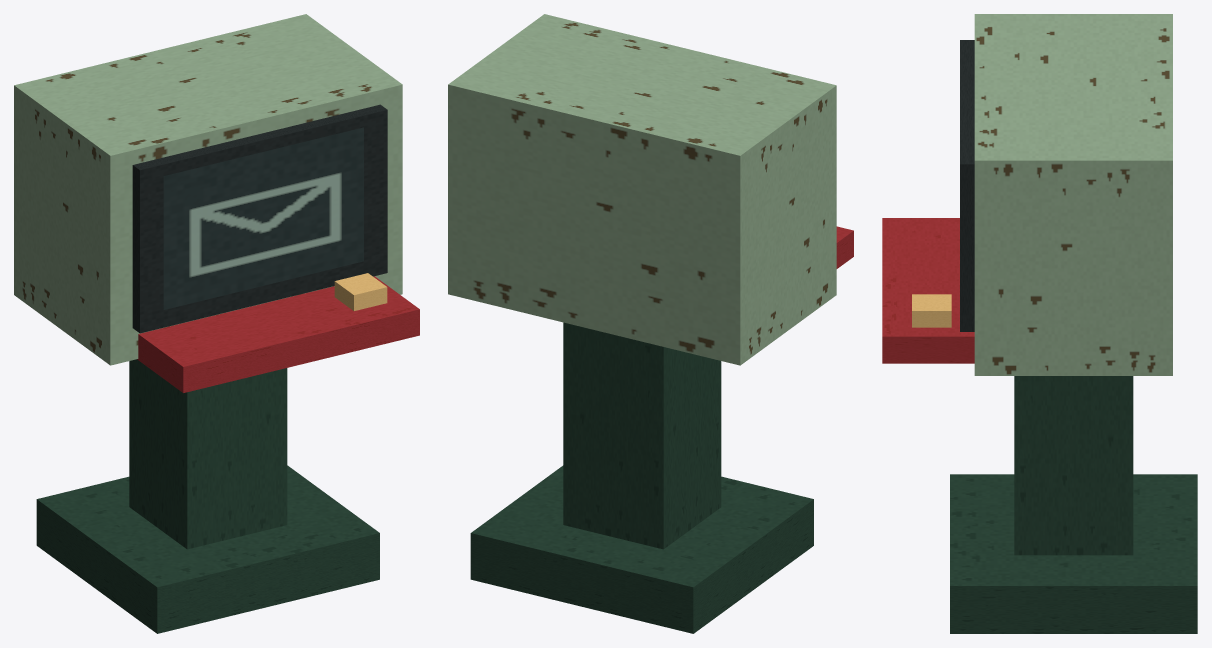
The model's file is PostTerminal.fbx.
3 renders of one model, left to right at view 1: azimuth 30°, elevation 25°; view 2: azimuth 150°, elevation 25°; view 3: azimuth 270°, elevation 25°, orthographic. The views are drawn at different scales.
Visible parts, largest first — view 1: PostTerminal; view 2: PostTerminal; view 3: PostTerminal.
Part boxes in pixels (left/top/right/bottom): PostTerminal: left=14, top=14, right=419, bottom=633; PostTerminal: left=448, top=14, right=853, bottom=633; PostTerminal: left=882, top=14, right=1197, bottom=633.
Bounding box in the file's own units: 105 × 164 × 95.5.
